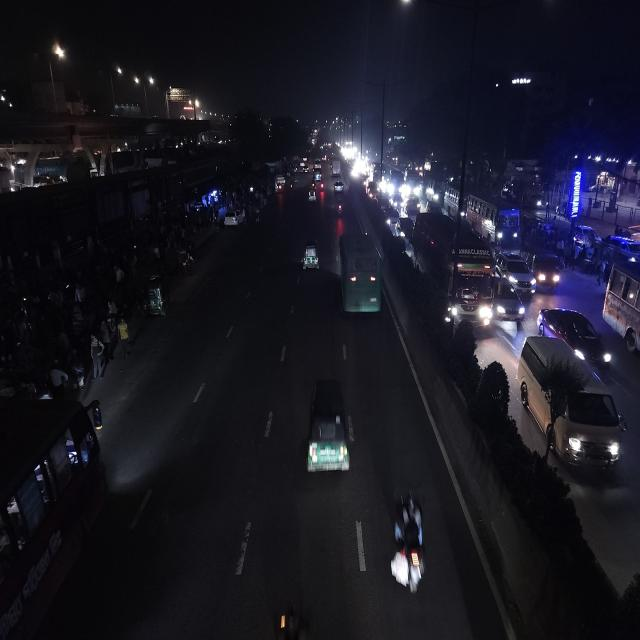bus: (0, 392, 108, 640), (414, 210, 496, 336), (337, 229, 383, 326), (602, 255, 640, 368), (468, 195, 522, 248), (384, 166, 404, 199), (424, 174, 444, 205), (274, 168, 288, 192)
car: (554, 345, 626, 492), (536, 302, 612, 368), (495, 251, 537, 297), (495, 277, 526, 327), (223, 203, 246, 230), (382, 203, 400, 234), (404, 195, 420, 217), (313, 166, 324, 185)
cng: (302, 373, 353, 484), (139, 269, 172, 320), (300, 238, 320, 274), (305, 185, 319, 208), (332, 177, 344, 196)
motorcycle: (388, 487, 430, 598), (335, 198, 345, 220), (289, 177, 296, 193)
pedestrian: (87, 336, 107, 380), (115, 315, 131, 355)
pickup_van: (530, 248, 564, 294)
truck: (331, 160, 343, 176)
